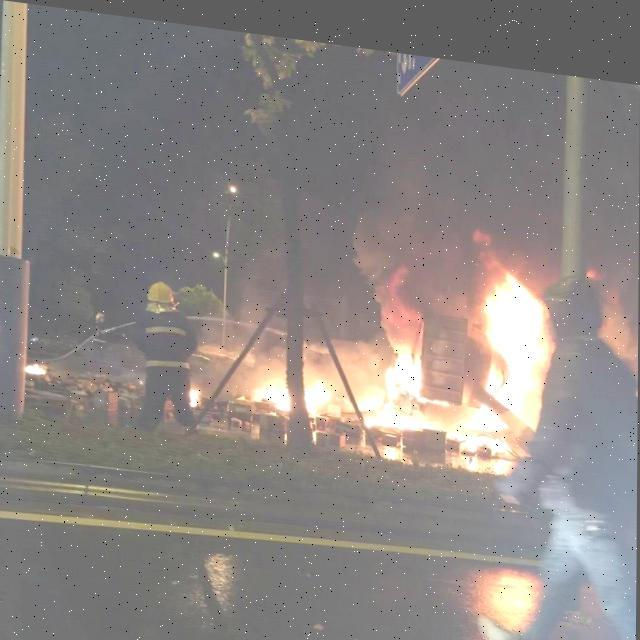Fire: (248, 218, 560, 480)
